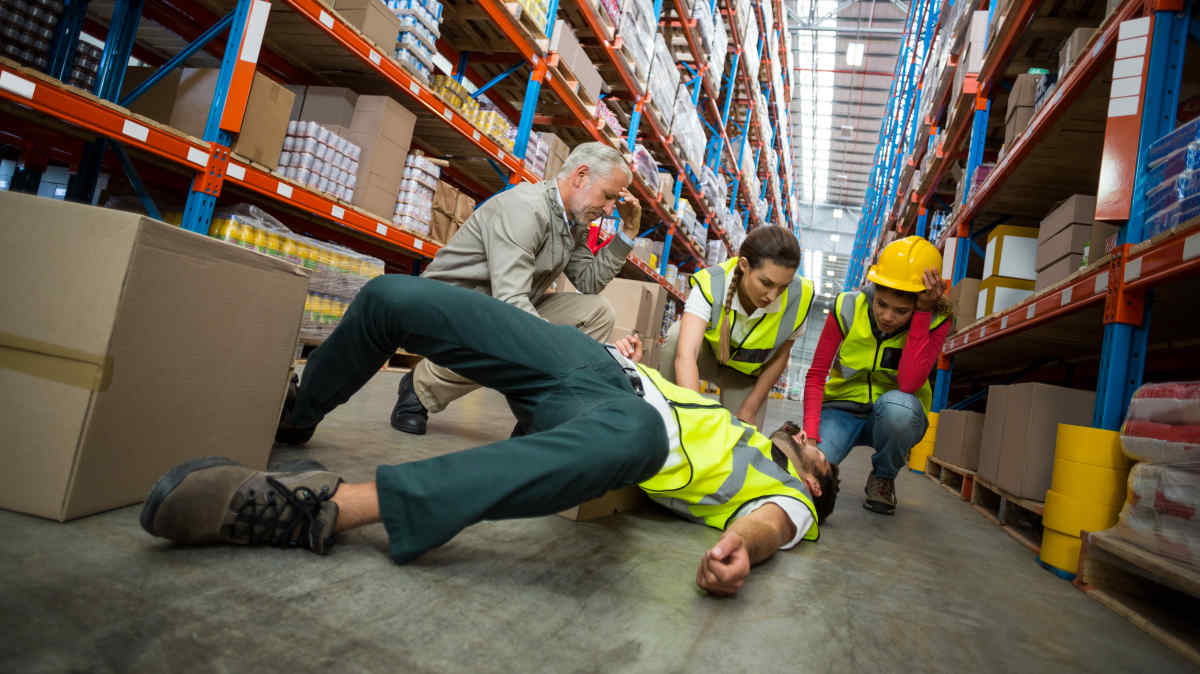unusual: (235, 51, 947, 608)
